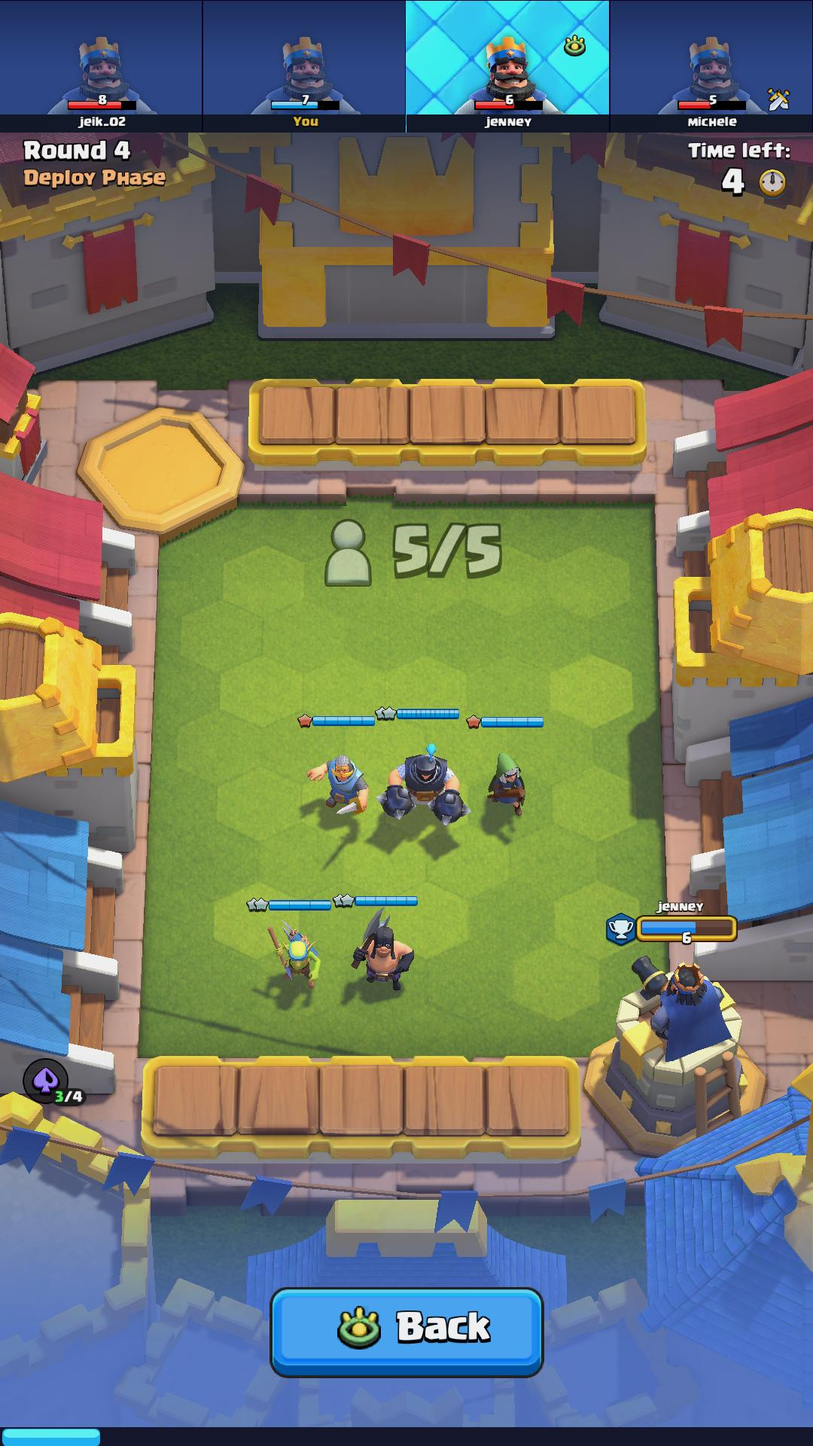bandit: (476, 742, 537, 821)
executioner: (346, 911, 423, 999)
knight: (294, 747, 375, 822)
mega: (376, 747, 469, 835)
spear: (246, 919, 337, 989)
